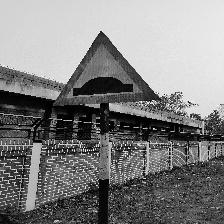Speed-breaker: (52, 31, 162, 105)
